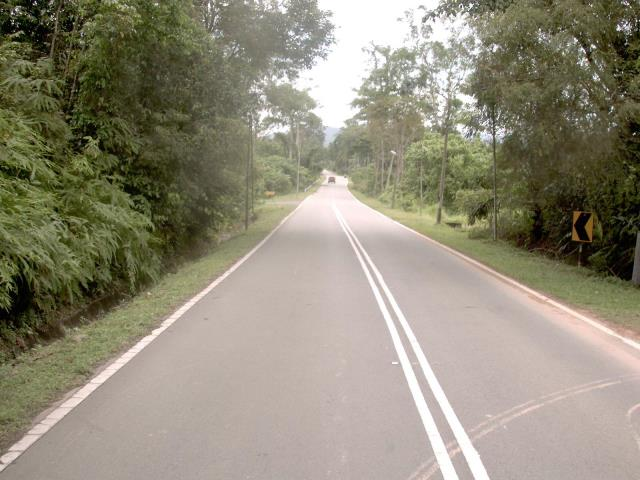traffic_sign: (566, 206, 602, 248)
